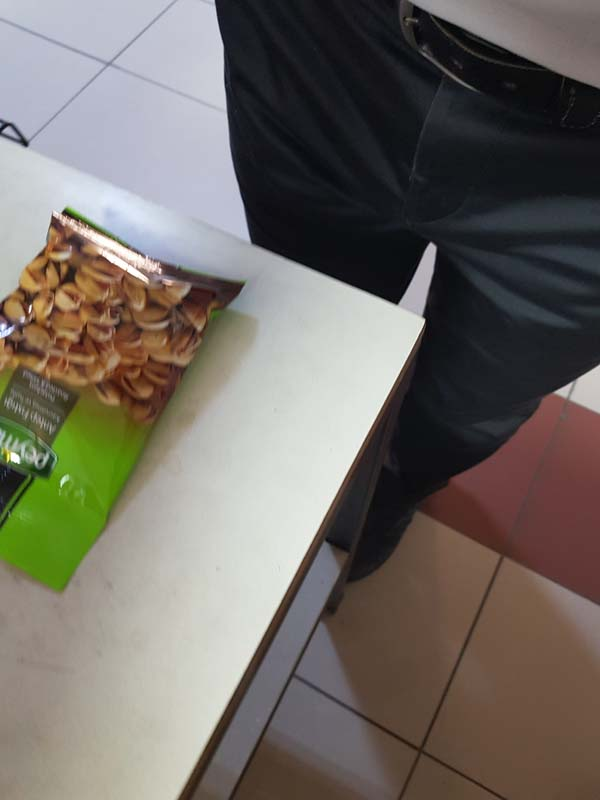antepfistigi: (3, 204, 248, 603)
